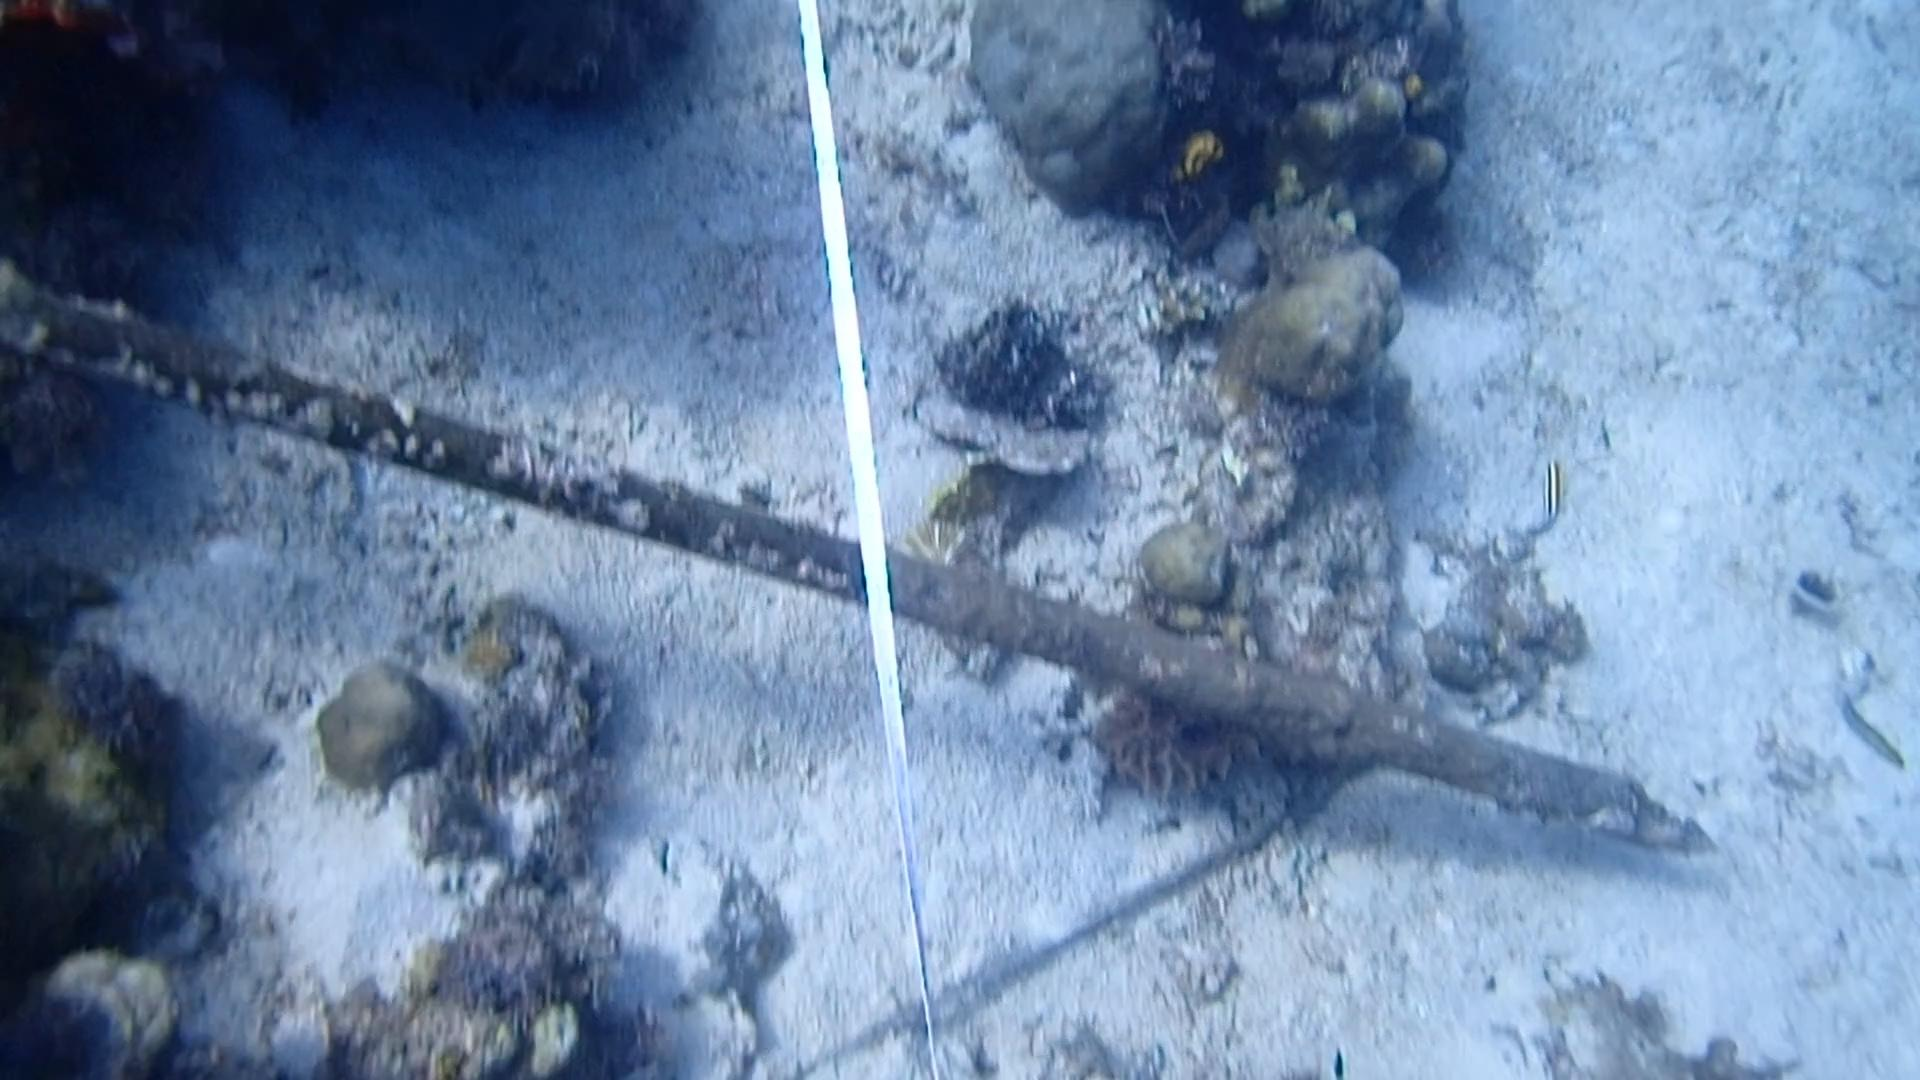Dark Fish: (469, 16, 547, 84)
Striped Fish: (1820, 682, 1912, 782), (1518, 458, 1578, 537)
